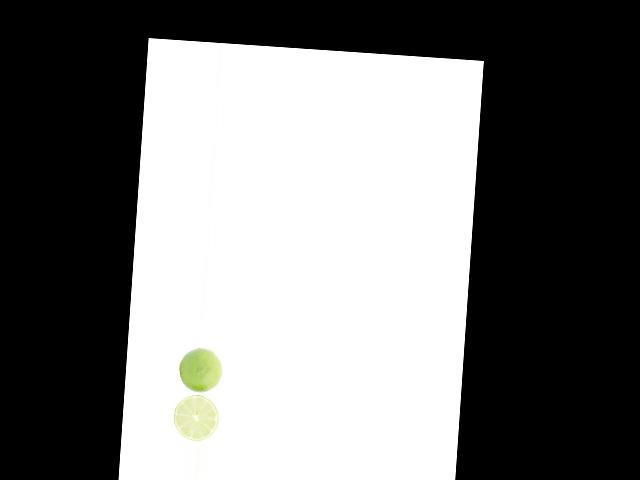lemon: (175, 347, 222, 393)
